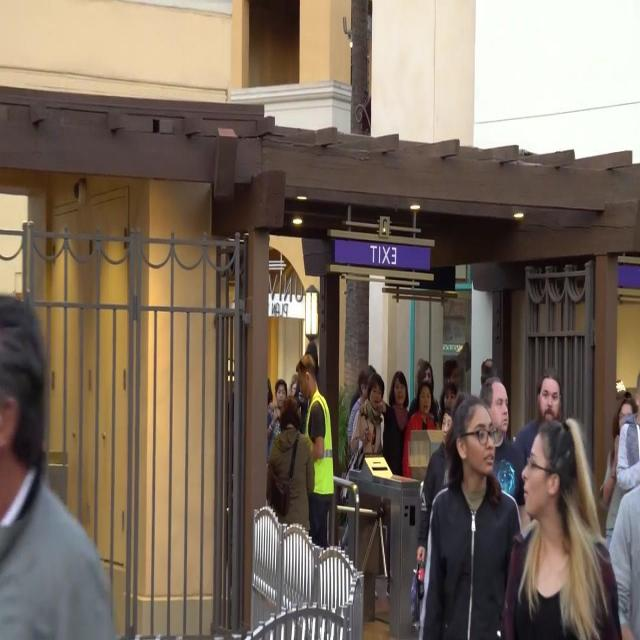Reflective-Jacket: (304, 391, 336, 497)
